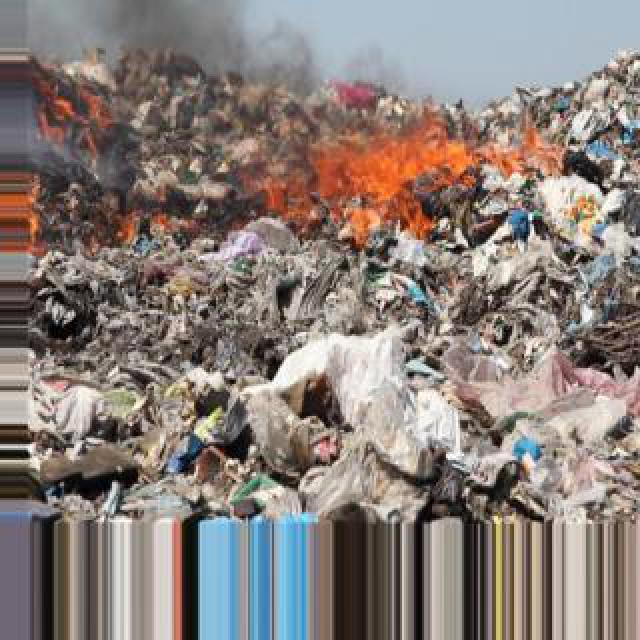smoke: (28, 2, 432, 134)
zfire: (248, 142, 480, 244), (496, 124, 562, 188), (110, 198, 178, 258), (560, 184, 608, 252)
